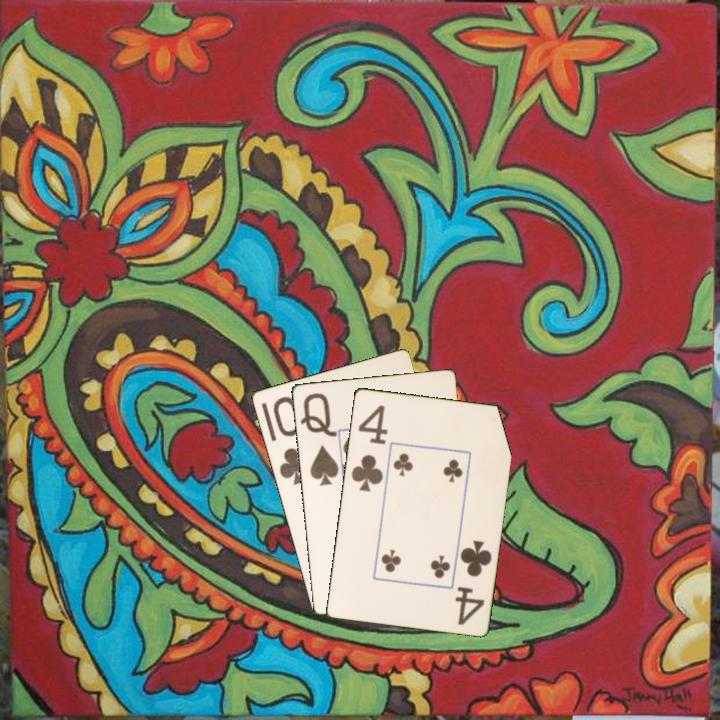10c: (269, 392, 313, 488)
4c: (347, 401, 390, 494), (452, 536, 494, 627)
Qs: (297, 389, 341, 489)
